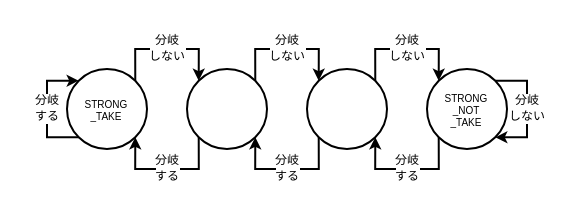
This 578x216 diagram has some shape labels left out. The centre of each missing label's shape, as x and y in pixels:
WEAK _NOT _TAKE: (x=346, y=108)
WEAK _TAKE: (x=226, y=108)
